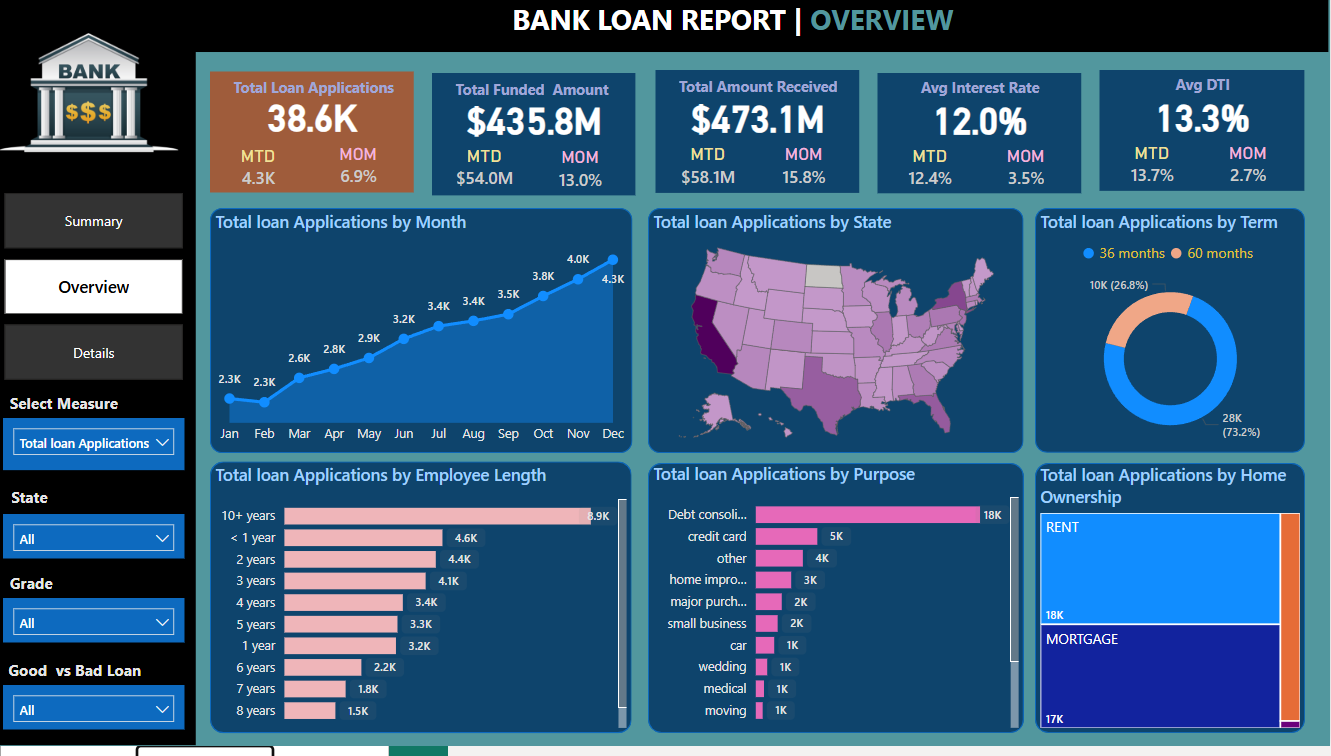

This screenshot's page, from the dashboard's own definition file:
{"tool":"powerbi","page":{"name":"Overview","canvas":[1280,720],"ordinal":1},"visuals":[{"type":"shape","box":[633.7,71.9,195.3,117.8],"z":0,"group":"g3"},{"type":"shape","box":[207.4,72.7,195.3,116.3],"z":0,"group":"g1"},{"type":"shape","box":[1059.9,73.2,196.4,115.9],"z":0,"group":"g5"},{"type":"shape","box":[420.6,74.2,195,117.4],"z":0,"group":"g2"},{"type":"shape","box":[846.8,75,195.3,115.6],"z":0,"group":"g4"},{"type":"shape","box":[207.4,204.4,405,235],"z":0},{"type":"shape","box":[0,0,1279.4,54.8],"z":1000},{"type":"card","fields":{"Values":["bank_loan_data.Total Amount Received"]},"box":[633.7,85.6,195.3,58],"z":1000,"group":"g3"},{"type":"card","fields":{"Values":["bank_loan_data.Total loan Applications"]},"box":[207.4,86.2,195.3,57.2],"z":1000,"group":"g1"},{"type":"card","fields":{"Values":["bank_loan_data.Avg DTI"]},"box":[1059.9,86.6,196.4,57],"z":1000,"group":"g5"},{"type":"card","fields":{"Values":["bank_loan_data.Total Funded Amount"]},"box":[420.6,87.9,195,57.7],"z":1000,"group":"g2"},{"type":"card","fields":{"Values":["bank_loan_data.Avg Interest Rate"]},"box":[846.8,88.5,195.3,56.9],"z":1000,"group":"g4"},{"type":"shape","box":[1.5,53,192.3,666.3],"z":2000},{"type":"textbox","box":[1061.1,71.2,194.9,34.8],"z":2000,"group":"g5"},{"type":"textbox","box":[650.4,71.9,178.7,32],"z":2000,"group":"g3"},{"type":"textbox","box":[224.1,72.7,178.7,31.6],"z":2000,"group":"g1"},{"type":"textbox","box":[847.9,73.1,193.8,34.7],"z":2000,"group":"g4"},{"type":"textbox","box":[437.2,74.2,178.4,31.9],"z":2000,"group":"g2"},{"type":"textbox","box":[492.1,0,448.2,54.5],"z":3000},{"type":"card","title":"MTD","fields":{"Values":["bank_loan_data.MTD Total Amount Recieved"]},"box":[646.1,141.7,74.2,47.7],"z":3000,"group":"g3"},{"type":"card","title":"MTD","fields":{"Values":["bank_loan_data.MTD Avg DTI"]},"box":[1072.4,141.8,74.6,46.9],"z":3000,"group":"g5"},{"type":"card","title":"MTD","fields":{"Values":["bank_loan_data.MTD Loan Applications"]},"box":[224.1,143.4,57.5,46.7],"z":3000,"group":"g1"},{"type":"card","title":"MTD","fields":{"Values":["bank_loan_data.MTD Avg Int Rate"]},"box":[859.2,143.5,74.2,46.8],"z":3000,"group":"g4"},{"type":"card","title":"MTD","fields":{"Values":["bank_loan_data.MTD Funded Amount"]},"box":[433,143.8,74.1,47.5],"z":3000,"group":"g2"},{"type":"group","id":"g1","title":"Group 1","box":[207.4,72.7,195.3,117],"z":4000},{"type":"card","title":"MOM","fields":{"Values":["bank_loan_data.MOM Loan Application"]},"box":[313.4,141.9,71.2,46.7],"z":4000,"group":"g1"},{"type":"card","title":"MOM","fields":{"Values":["bank_loan_data.MOM Total Amount Recieved"]},"box":[739.7,142.1,71.2,47.3],"z":4000,"group":"g3"},{"type":"card","title":"MOM","fields":{"Values":["bank_loan_data.MOM  Avg DTI"]},"box":[1166.5,142.1,71.6,46.5],"z":4000,"group":"g5"},{"type":"card","title":"MOM","fields":{"Values":["bank_loan_data.MOM Avg Int Rate"]},"box":[952.8,143.9,71.2,46.4],"z":4000,"group":"g4"},{"type":"card","title":"MOM","fields":{"Values":["bank_loan_data.MOM Total Funded Amount"]},"box":[526.4,144.1,71,47.1],"z":4000,"group":"g2"},{"type":"group","id":"g2","title":"Group 1","box":[420.6,74.2,195.3,117],"z":5000},{"type":"group","id":"g3","title":"Group 1","box":[633.7,71.9,195.3,116.6],"z":6000},{"type":"group","id":"g4","title":"Group 1","box":[846.8,73.1,195.3,117],"z":7000},{"type":"group","id":"g5","title":"Group 1","box":[1059.9,71.2,195.3,116.6],"z":8000},{"type":"slicer","fields":{"Values":["bank_loan_data.address_state"]},"box":[9.1,498.2,174.1,42.4],"z":9000},{"type":"textbox","box":[11.6,465.9,87.8,31.8],"z":10000},{"type":"slicer","fields":{"Values":["bank_loan_data.grade"]},"box":[9.1,578.4,174.1,42.4],"z":11000},{"type":"textbox","box":[10.6,548.1,89.3,30.3],"z":12000},{"type":"slicer","fields":{"Values":["bank_loan_data.Good vs Bad Loan"]},"box":[9.1,661.7,174.1,42.4],"z":13000},{"type":"textbox","box":[9.1,631.4,156,30.3],"z":14000},{"type":"slicer","fields":{"Values":["Select Measures.Select Measures"]},"box":[9.1,405.8,174.1,50],"z":15000},{"type":"textbox","box":[10.6,375,127.2,30.3],"z":16000},{"type":"areaChart","fields":{"Y":["bank_loan_data.Total loan Applications"],"Category":["Date Table.Month"]},"box":[207.4,205.9,404.3,233.2],"z":17000},{"type":"shape","box":[626.9,204.4,360,235],"z":18000},{"type":"shapeMap","fields":{"Category":["bank_loan_data.address_state"],"Value":["bank_loan_data.Total loan Applications"]},"box":[626.9,205.9,360.4,233.2],"z":18001},{"type":"shape","box":[997.9,204.4,258.9,234.7],"z":18002},{"type":"donutChart","fields":{"Category":["bank_loan_data.term"],"Y":["bank_loan_data.Total loan Applications"]},"box":[997.9,205.9,258.9,234.7],"z":18003},{"type":"shape","box":[207.4,446.7,404.3,260.4],"z":18004},{"type":"barChart","fields":{"Category":["bank_loan_data.emp_length"],"Y":["bank_loan_data.Total loan Applications"]},"box":[207.4,448.2,404.3,258.9],"z":18005},{"type":"shape","box":[626.9,448.2,360.4,258.9],"z":18006},{"type":"barChart","fields":{"Category":["bank_loan_data.purpose"],"Y":["bank_loan_data.Total loan Applications"]},"box":[626.9,446.7,360.4,260.4],"z":18007},{"type":"shape","box":[997.9,448.2,258.9,258.9],"z":18008},{"type":"treemap","fields":{"Group":["bank_loan_data.home_ownership"],"Values":["bank_loan_data.Total loan Applications"]},"box":[997.9,448.2,258.9,258.9],"z":18009},{"type":"image","box":[0,0,181.7,187.8],"z":18010},{"type":"pageNavigator","box":[10.6,189.3,171.1,181.7],"z":18011}]}

Visuals, with their boxes in screenshot pixels (x1, y1, x2, y2), scaled from the page's 1280x720 canvas onto the 1331x756 screenshot:
shape: [659, 75, 862, 199]
shape: [216, 76, 419, 198]
shape: [1102, 77, 1306, 199]
shape: [437, 78, 640, 201]
shape: [881, 79, 1084, 200]
shape: [216, 215, 637, 461]
shape: [0, 0, 1330, 58]
card - bank_loan_data.Total Amount Received: [659, 90, 862, 151]
card - bank_loan_data.Total loan Applications: [216, 91, 419, 151]
card - bank_loan_data.Avg DTI: [1102, 91, 1306, 151]
card - bank_loan_data.Total Funded Amount: [437, 92, 640, 153]
card - bank_loan_data.Avg Interest Rate: [881, 93, 1084, 153]
shape: [2, 56, 202, 755]
textbox: [1103, 75, 1306, 111]
textbox: [676, 75, 862, 109]
textbox: [233, 76, 419, 110]
textbox: [882, 77, 1083, 113]
textbox: [455, 78, 640, 111]
textbox: [512, 0, 978, 57]
"MTD" card: [672, 149, 749, 199]
"MTD" card: [1115, 149, 1193, 198]
"MTD" card: [233, 151, 293, 200]
"MTD" card: [893, 151, 971, 200]
"MTD" card: [450, 151, 527, 201]
"Group 1" group: [216, 76, 419, 199]
"MOM" card: [326, 149, 400, 198]
"MOM" card: [769, 149, 843, 199]
"MOM" card: [1213, 149, 1287, 198]
"MOM" card: [991, 151, 1065, 200]
"MOM" card: [547, 151, 621, 201]
"Group 1" group: [437, 78, 640, 201]
"Group 1" group: [659, 75, 862, 198]
"Group 1" group: [881, 77, 1084, 200]
"Group 1" group: [1102, 75, 1305, 197]
slicer - bank_loan_data.address_state: [9, 523, 190, 568]
textbox: [12, 489, 103, 523]
slicer - bank_loan_data.grade: [9, 607, 190, 652]
textbox: [11, 576, 104, 607]
slicer - bank_loan_data.Good vs Bad Loan: [9, 695, 190, 739]
textbox: [9, 663, 172, 695]
slicer - Select Measures.Select Measures: [9, 426, 190, 479]
textbox: [11, 394, 143, 426]
areaChart - bank_loan_data.Total loan Applications x Date Table.Month: [216, 216, 636, 461]
shape: [652, 215, 1026, 461]
shapeMap - bank_loan_data.address_state x bank_loan_data.Total loan Applications: [652, 216, 1027, 461]
shape: [1038, 215, 1307, 461]
donutChart - bank_loan_data.term x bank_loan_data.Total loan Applications: [1038, 216, 1307, 463]
shape: [216, 469, 636, 742]
barChart - bank_loan_data.emp_length x bank_loan_data.Total loan Applications: [216, 471, 636, 742]
shape: [652, 471, 1027, 742]
barChart - bank_loan_data.purpose x bank_loan_data.Total loan Applications: [652, 469, 1027, 742]
shape: [1038, 471, 1307, 742]
treemap - bank_loan_data.home_ownership x bank_loan_data.Total loan Applications: [1038, 471, 1307, 742]
image: [0, 0, 189, 197]
pageNavigator: [11, 199, 189, 390]
